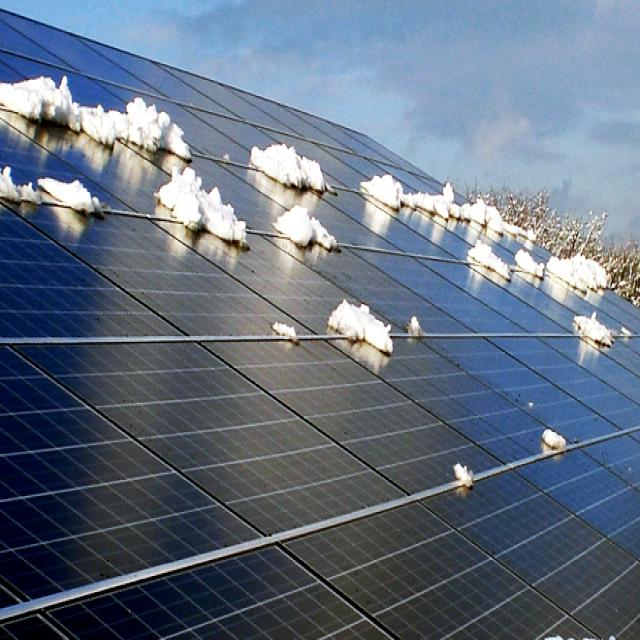panel: (108, 57, 195, 164), (156, 168, 252, 264), (0, 45, 99, 136), (0, 160, 117, 232), (240, 121, 346, 200), (343, 160, 433, 232), (325, 278, 394, 368), (424, 172, 528, 230), (551, 246, 637, 311), (264, 208, 355, 263), (472, 242, 552, 292), (575, 308, 640, 358), (534, 406, 579, 476), (442, 454, 493, 514), (404, 272, 441, 354), (260, 302, 309, 352)
